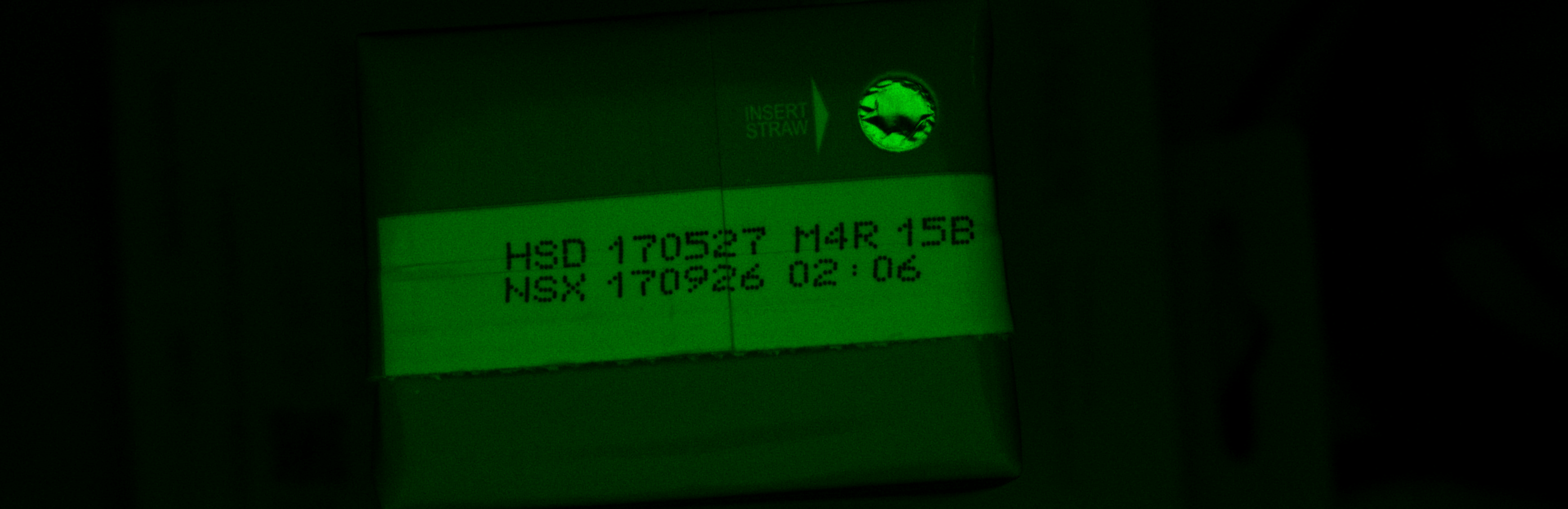date: (918, 213, 949, 250), (792, 221, 823, 257), (502, 236, 532, 273), (602, 231, 632, 268), (894, 250, 924, 287), (560, 232, 589, 270), (850, 218, 880, 254), (738, 258, 767, 295), (682, 225, 710, 263), (949, 211, 977, 249), (710, 224, 740, 259), (739, 222, 769, 257), (560, 271, 590, 306), (531, 271, 560, 307), (811, 255, 840, 291), (710, 260, 738, 297), (631, 229, 658, 267), (502, 273, 531, 308), (681, 263, 710, 298), (822, 219, 850, 255), (628, 267, 658, 300), (533, 235, 559, 272), (894, 211, 918, 250), (659, 226, 682, 266), (602, 268, 629, 301), (786, 256, 811, 291), (869, 252, 895, 285), (659, 264, 682, 299), (846, 257, 863, 286)
